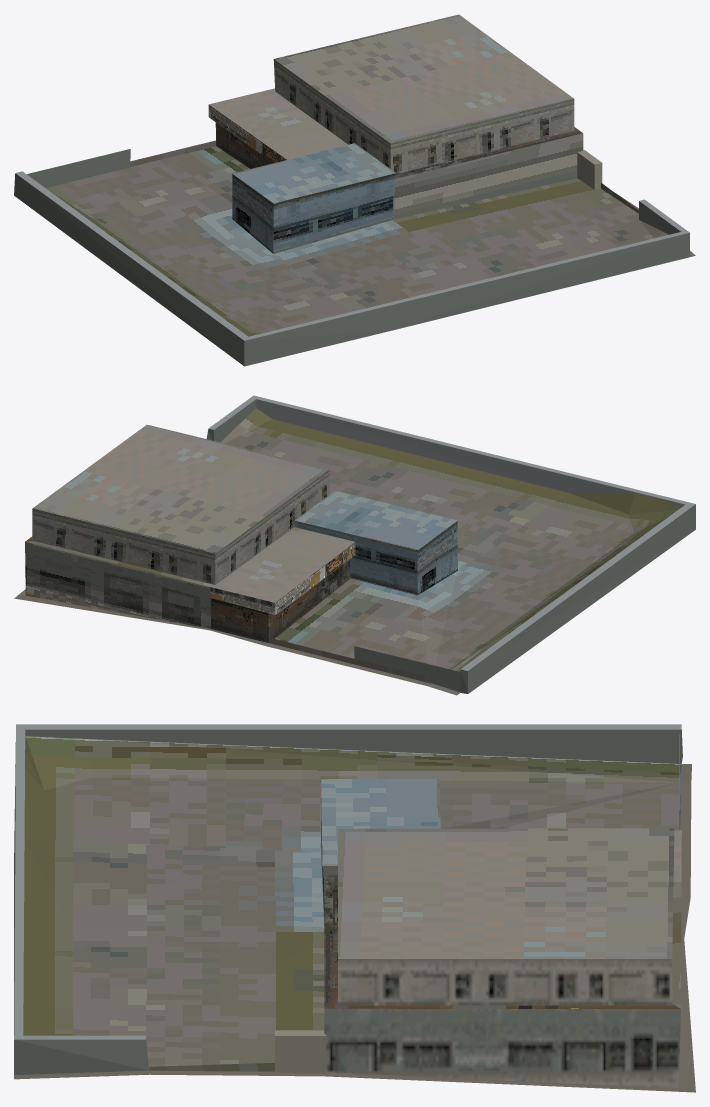
Rendered from lodcompomark.obj.
The picture shows the model from 3 angles, top to bottom: view 1: azimuth 30°, elevation 25°; view 2: azimuth 150°, elevation 25°; view 3: azimuth 270°, elevation 25°; orthographic projection. The views are drawn at different scales.
Visible parts, largest first — view 1: LODcompomark; view 2: LODcompomark; view 3: LODcompomark.
Boxes of the visible parts, x1,y1,x2,y2 form: LODcompomark: (14, 14, 695, 366); LODcompomark: (14, 395, 695, 695); LODcompomark: (14, 724, 695, 1092).
Size of the model in its own units: 57.04 by 10.44 by 51.12.
4 materials, 4 textured.
